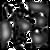node: (27, 1, 49, 13), (15, 16, 31, 32), (1, 21, 12, 41), (30, 31, 43, 46), (35, 16, 47, 27)
